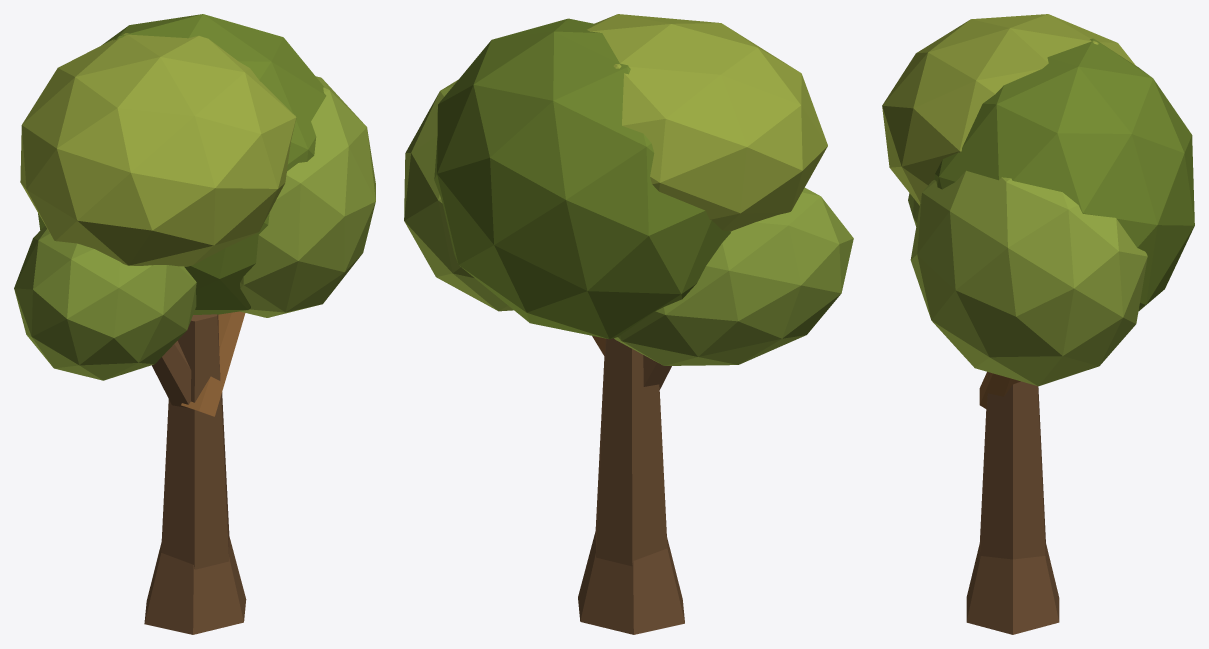
Rendered from tree-canopy-15.gltf.
3 views of the same model, side by side, from view 1: azimuth 30°, elevation 25°; view 2: azimuth 150°, elevation 25°; view 3: azimuth 270°, elevation 25° (orthographic). The views are drawn at different scales.
Parts seen in each view (by area): view 1: tree-canopy-15; view 2: tree-canopy-15; view 3: tree-canopy-15.
Part boxes in pixels (x1,y1,x2,y2): tree-canopy-15: (14, 14, 375, 634); tree-canopy-15: (404, 14, 853, 634); tree-canopy-15: (882, 14, 1194, 634).
Bounding box in the file's own units: 1.14 × 1.68 × 0.8417.
